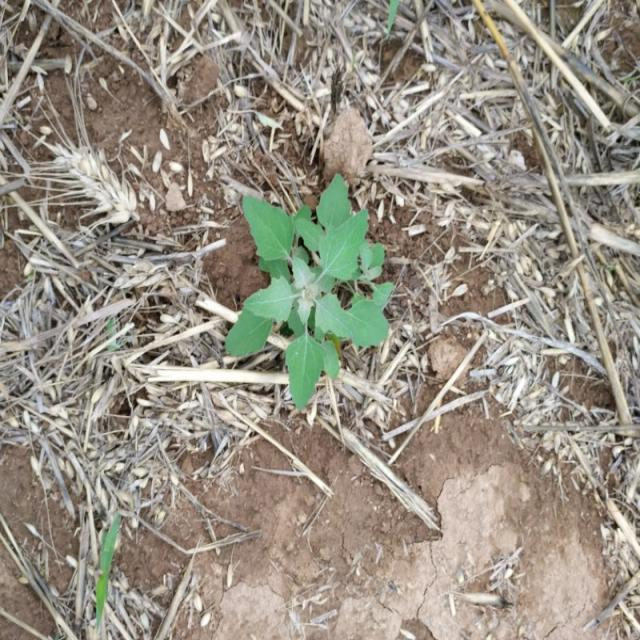goosefoots: (218, 185, 399, 392)
